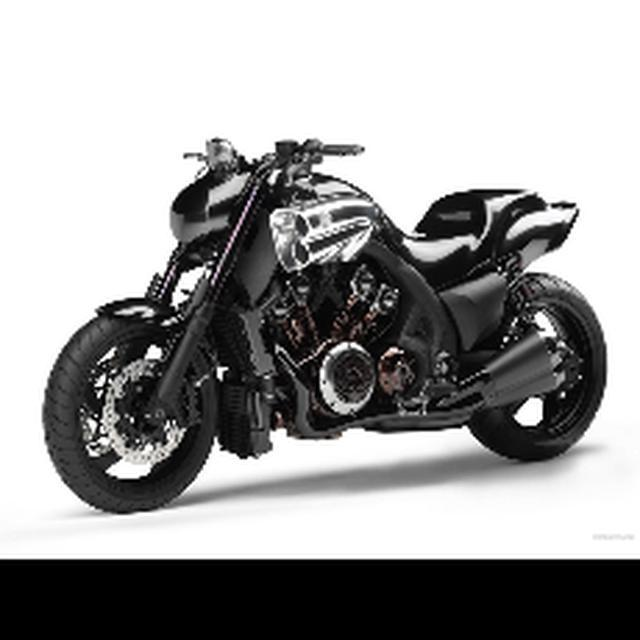motorcycle: (39, 127, 613, 520)
